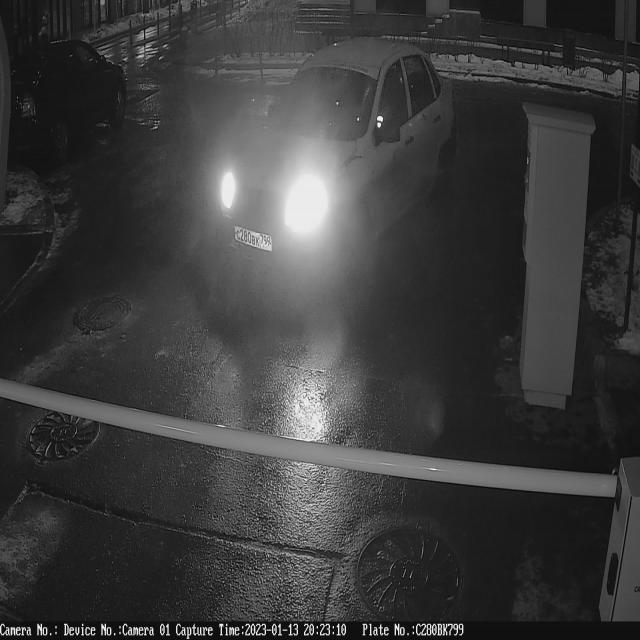car-plate-numbers: (233, 222, 275, 256)
